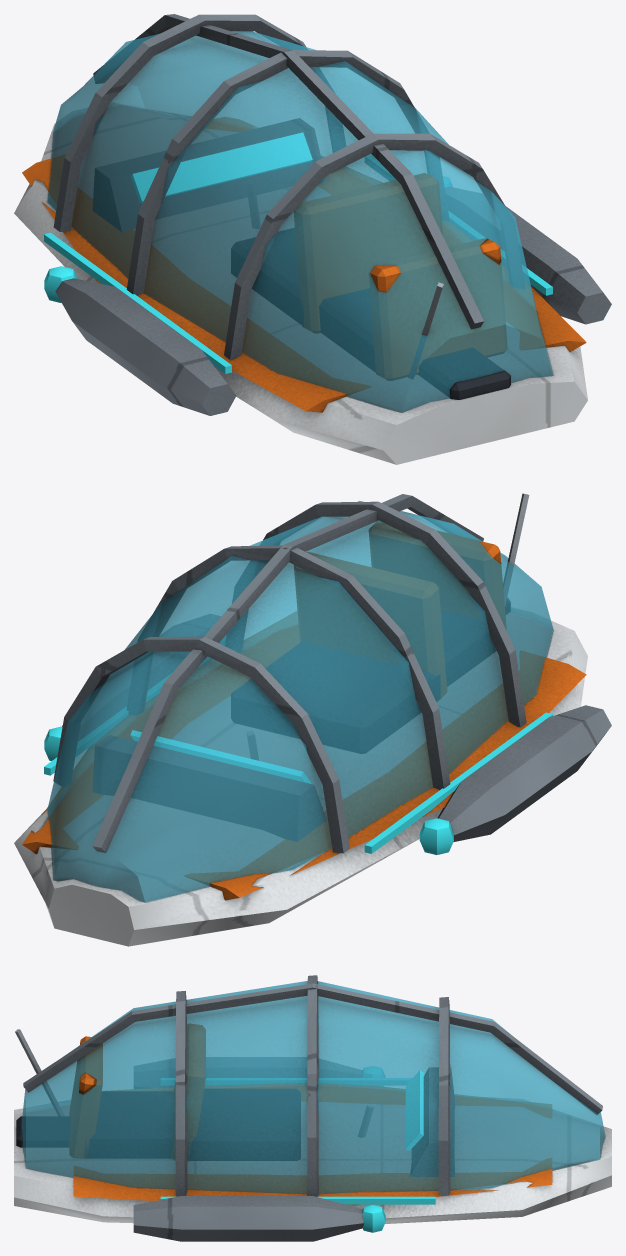
File: cabina_avanzada.fbx
The picture shows the model from 3 angles, top to bottom: view 1: azimuth 30°, elevation 25°; view 2: azimuth 150°, elevation 25°; view 3: azimuth 270°, elevation 25°; orthographic projection. The views are drawn at different scales.
Parts seen in each view (by area): view 1: cabina_avanzada, cabina_avanzada_cristal, cabina_avanzada_neon; view 2: cabina_avanzada, cabina_avanzada_cristal, cabina_avanzada_neon; view 3: cabina_avanzada, cabina_avanzada_cristal, cabina_avanzada_neon.
Part boxes in pixels (x1=…): cabina_avanzada: x1=14, y1=14, x2=611, y2=464; cabina_avanzada_cristal: x1=47, y1=31, x2=553, y2=412; cabina_avanzada_neon: x1=44, y1=132, x2=552, y2=373; cabina_avanzada: x1=14, y1=493, x2=611, y2=946; cabina_avanzada_cristal: x1=47, y1=501, x2=553, y2=902; cabina_avanzada_neon: x1=44, y1=636, x2=552, y2=854; cabina_avanzada: x1=14, y1=975, x2=611, y2=1241; cabina_avanzada_cristal: x1=21, y1=981, x2=605, y2=1194; cabina_avanzada_neon: x1=160, y1=1066, x2=435, y2=1232.
Bounding box in the file's own units: 5.08 × 2.77 × 8.
3 materials, 3 textured.
